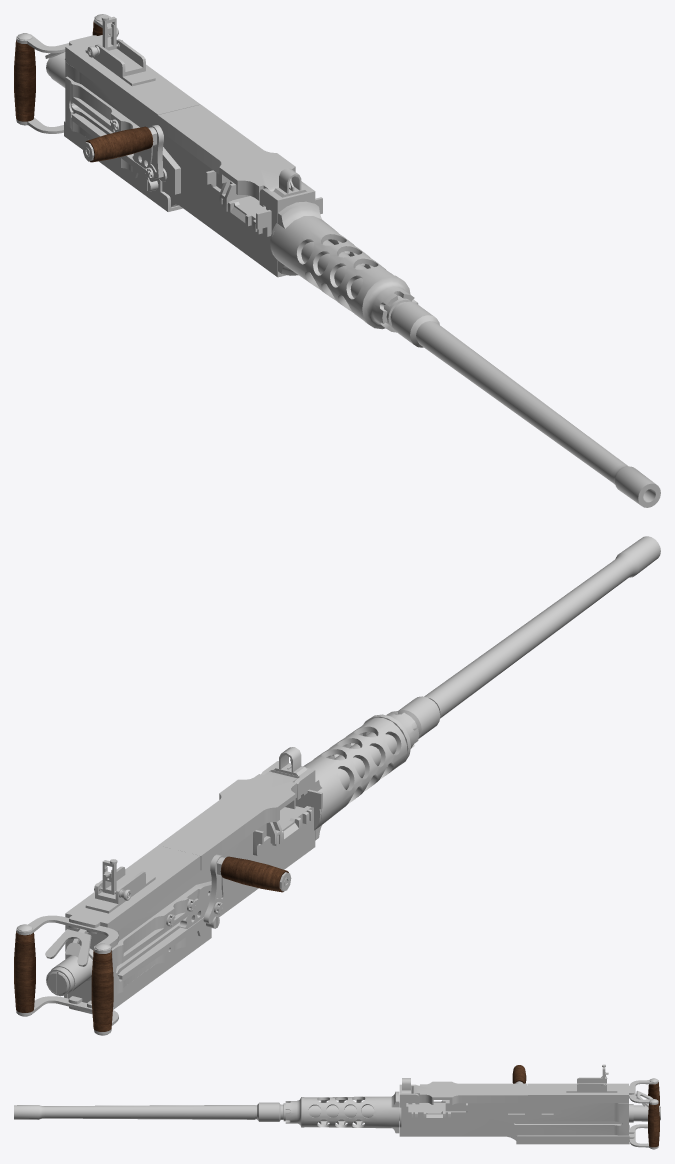
The model's file is M2HB browning.dae.
3 views of the same model, one above another, from view 1: azimuth 30°, elevation 25°; view 2: azimuth 150°, elevation 25°; view 3: azimuth 270°, elevation 25° (orthographic). The views are drawn at different scales.
Visible parts, largest first — view 1: Barrel_Lowpoly, Base_Lowpoly, Barreljacket_Lowpoly, Frontcover_Lowpoly, Backcover_Lowpoly, Boltplate_Lowpoly, Barreltransition_Lowpoly, Handles_Lowpoly, Rearsightbase_Lowpoly, boltleverhandle_Lowpoly, Chambergreeble_Lowpoly, Lowercover_Lowpoly (+1 smaller); view 2: Barrel_Lowpoly, Base_Lowpoly, Frontcover_Lowpoly, Barreljacket_Lowpoly, Boltplate_Lowpoly, Backcover_Lowpoly, Handles_Lowpoly, boltleverhandle_Lowpoly, Lowercover_Lowpoly, Rearsightbase_Lowpoly, Chambergreeble_Lowpoly, Handlebase1_Lowpoly (+5 smaller); view 3: Base_Lowpoly, Barrel_Lowpoly, Barreljacket_Lowpoly, Frontcover_Lowpoly, Backcover_Lowpoly, Lowercover_Lowpoly, Handles_Lowpoly, Barrelinside_Lowpoly, Rearsightbase_Lowpoly, Chambergreeble_Lowpoly, Barreltransition_Lowpoly, Handlecylinder_Lowpoly (+4 smaller).
Boxes of the visible parts, bbox=[...] form: Barrel_Lowpoly: bbox=[384, 295, 660, 507]; Base_Lowpoly: bbox=[65, 62, 315, 277]; Barreljacket_Lowpoly: bbox=[271, 201, 393, 320]; Frontcover_Lowpoly: bbox=[158, 104, 295, 200]; Backcover_Lowpoly: bbox=[65, 35, 200, 125]; Boltplate_Lowpoly: bbox=[65, 76, 180, 194]; Barreltransition_Lowpoly: bbox=[359, 274, 418, 332]; Handles_Lowpoly: bbox=[14, 21, 102, 121]; Rearsightbase_Lowpoly: bbox=[85, 39, 155, 86]; boltleverhandle_Lowpoly: bbox=[85, 126, 153, 162]; Chambergreeble_Lowpoly: bbox=[205, 170, 322, 236]; Lowercover_Lowpoly: bbox=[64, 121, 182, 211]; Barrel_Lowpoly: bbox=[397, 536, 660, 738]; Base_Lowpoly: bbox=[65, 761, 321, 1002]; Frontcover_Lowpoly: bbox=[158, 771, 297, 869]; Barreljacket_Lowpoly: bbox=[303, 717, 407, 840]; Boltplate_Lowpoly: bbox=[111, 881, 224, 996]; Backcover_Lowpoly: bbox=[65, 845, 200, 937]; Handles_Lowpoly: bbox=[14, 931, 113, 1031]; boltleverhandle_Lowpoly: bbox=[220, 856, 288, 892]; Lowercover_Lowpoly: bbox=[64, 927, 211, 1014]; Rearsightbase_Lowpoly: bbox=[85, 866, 155, 913]; Chambergreeble_Lowpoly: bbox=[253, 789, 322, 855]; Handlebase1_Lowpoly: bbox=[16, 915, 118, 953]; Base_Lowpoly: bbox=[399, 1084, 628, 1140]; Barrel_Lowpoly: bbox=[14, 1102, 290, 1121]; Barreljacket_Lowpoly: bbox=[302, 1091, 399, 1133]; Frontcover_Lowpoly: bbox=[412, 1081, 527, 1104]; Backcover_Lowpoly: bbox=[527, 1083, 634, 1102]; Lowercover_Lowpoly: bbox=[516, 1124, 629, 1144]; Handles_Lowpoly: bbox=[648, 1082, 659, 1147]; Barrelinside_Lowpoly: bbox=[308, 1103, 399, 1121]; Rearsightbase_Lowpoly: bbox=[566, 1077, 617, 1092]; Chambergreeble_Lowpoly: bbox=[406, 1100, 467, 1118]; Barreltransition_Lowpoly: bbox=[285, 1097, 304, 1127]; Handlecylinder_Lowpoly: bbox=[629, 1104, 659, 1122].
Bounding box in the file's own units: 1.77 × 12.28 × 1.51.
